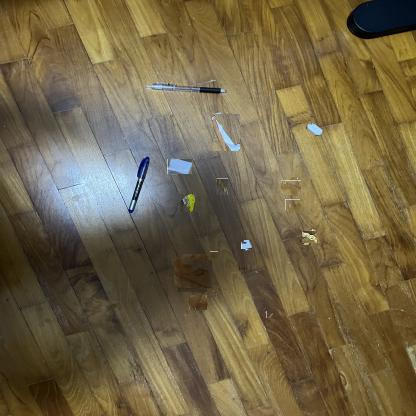dirty: (212, 113, 240, 151), (167, 158, 192, 174), (180, 194, 196, 212), (216, 178, 228, 195), (302, 230, 316, 244), (242, 241, 252, 250)
liquid: (176, 256, 210, 290), (283, 179, 300, 196), (189, 294, 207, 310), (285, 199, 300, 210), (210, 251, 218, 258), (239, 265, 245, 271), (212, 289, 216, 293)
mark: (266, 311, 273, 318)
